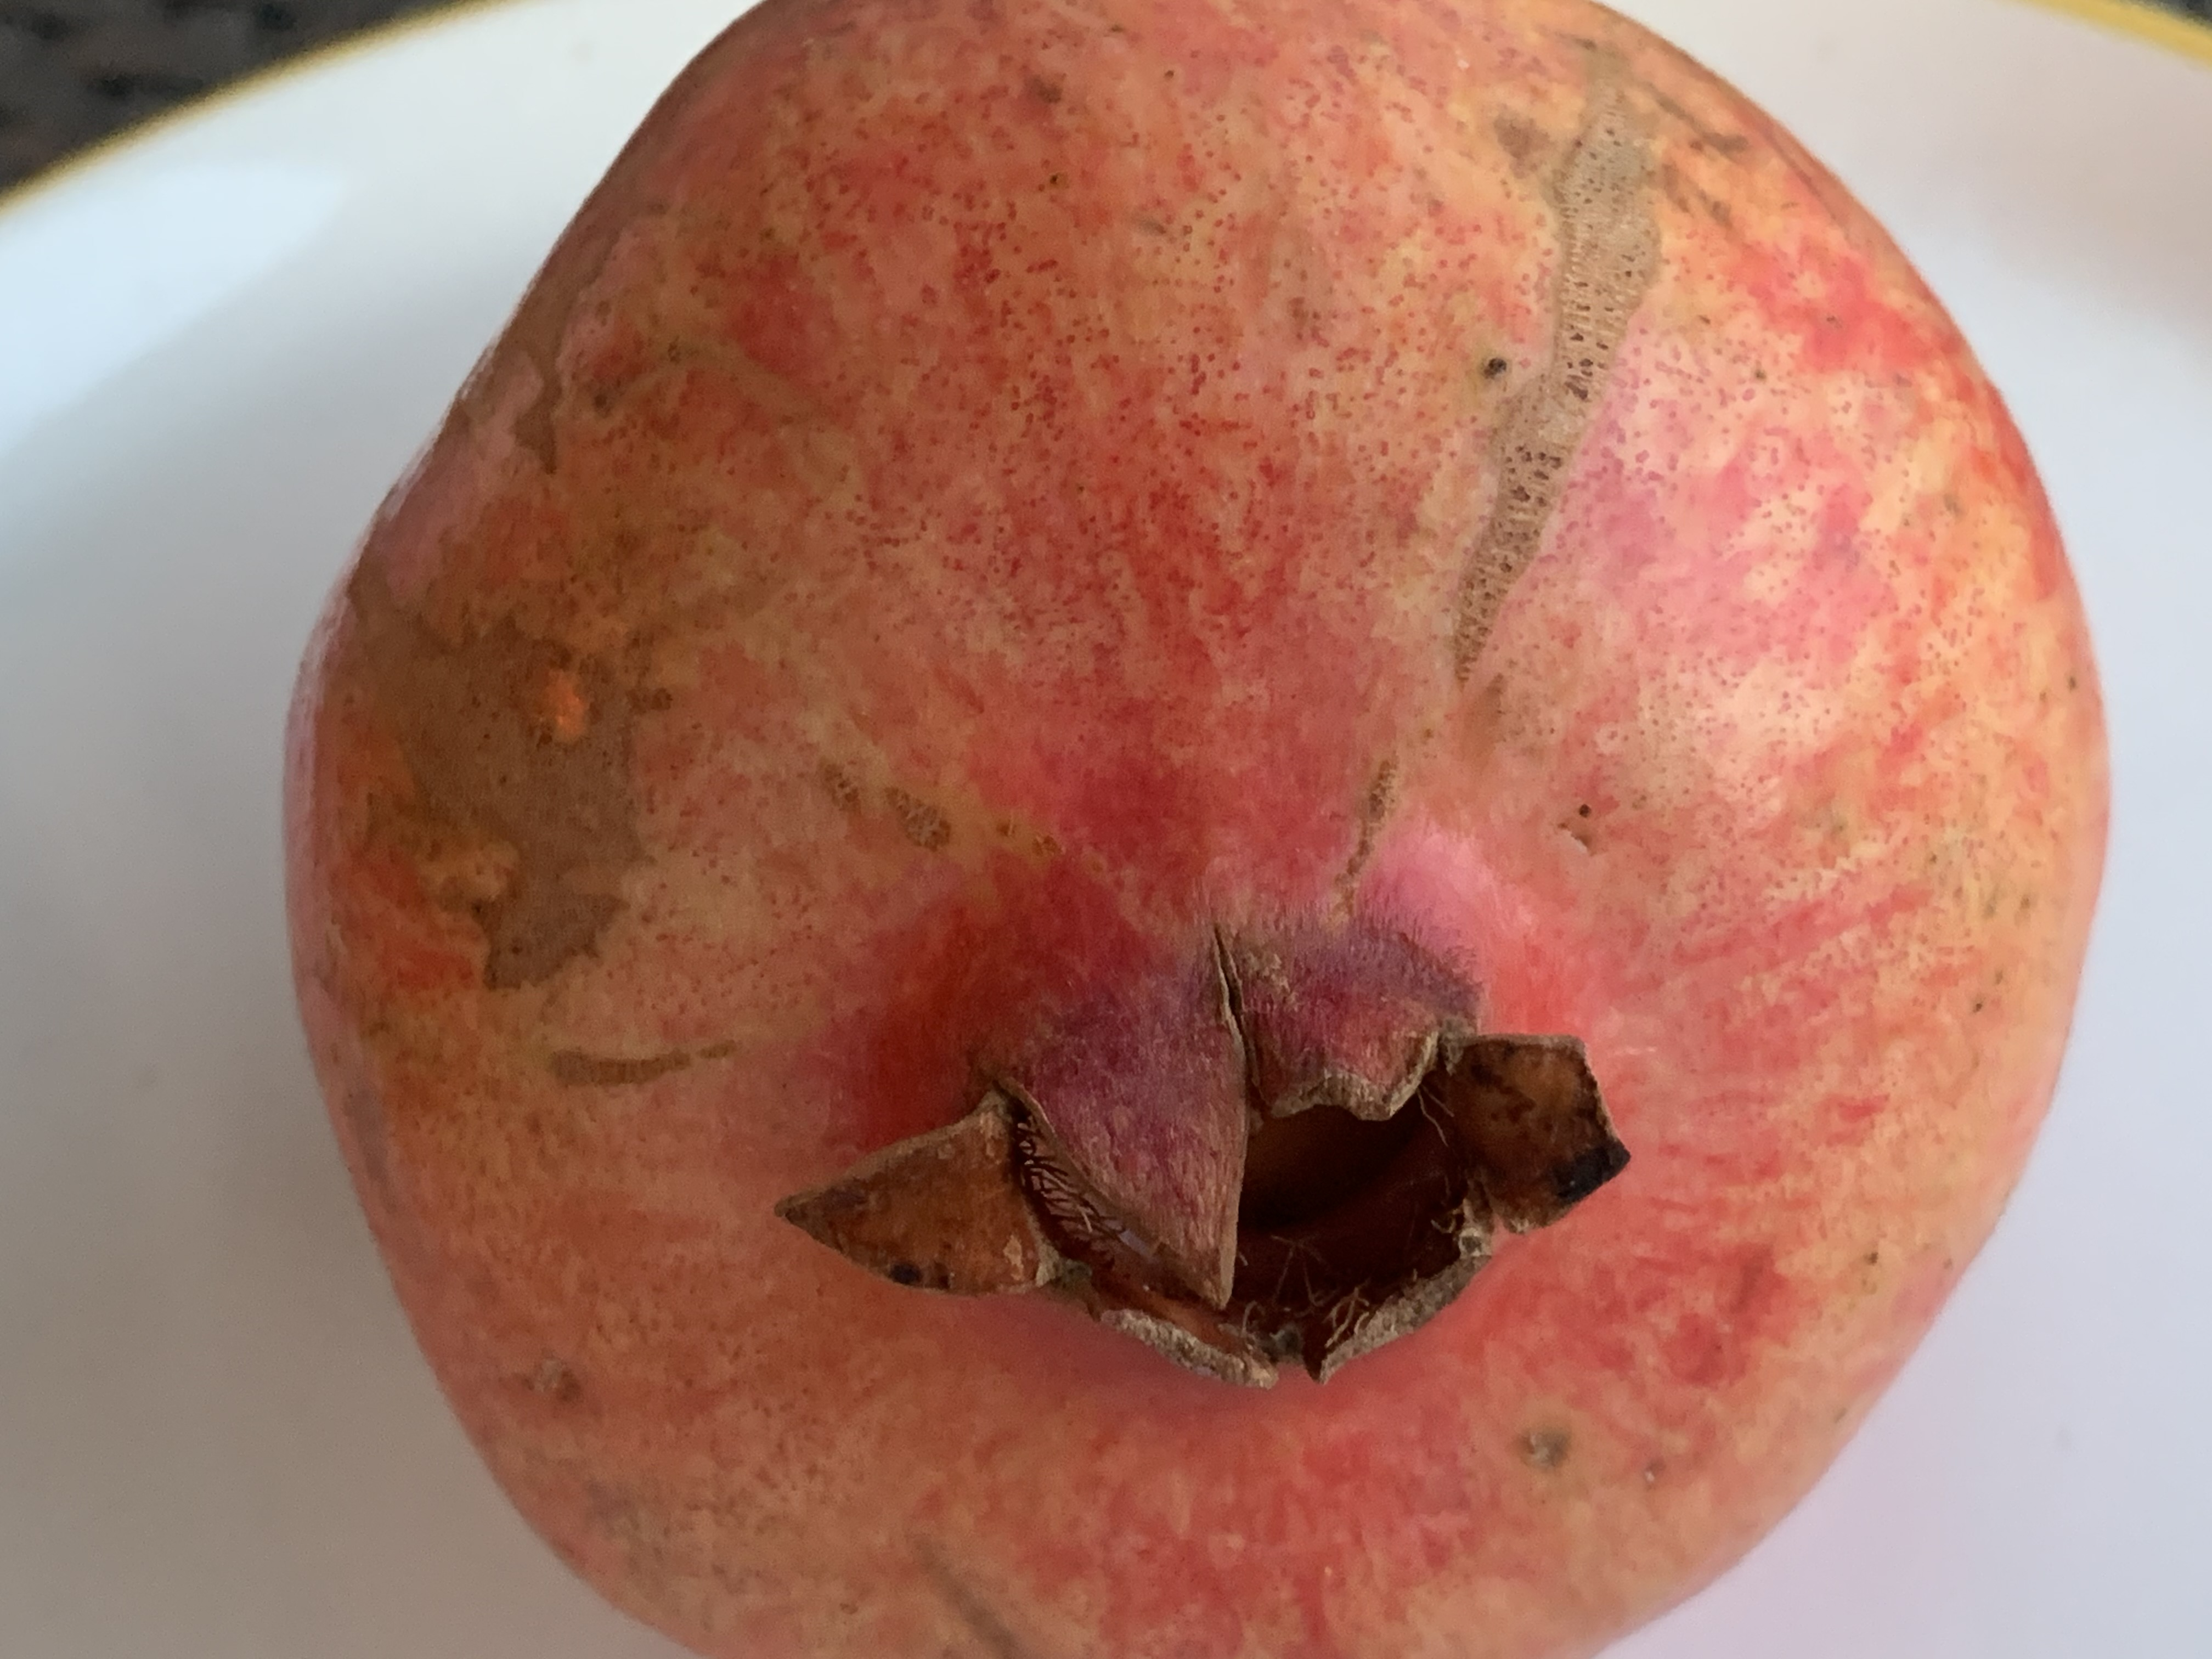Pomegranate: (289, 9, 2134, 1659)
